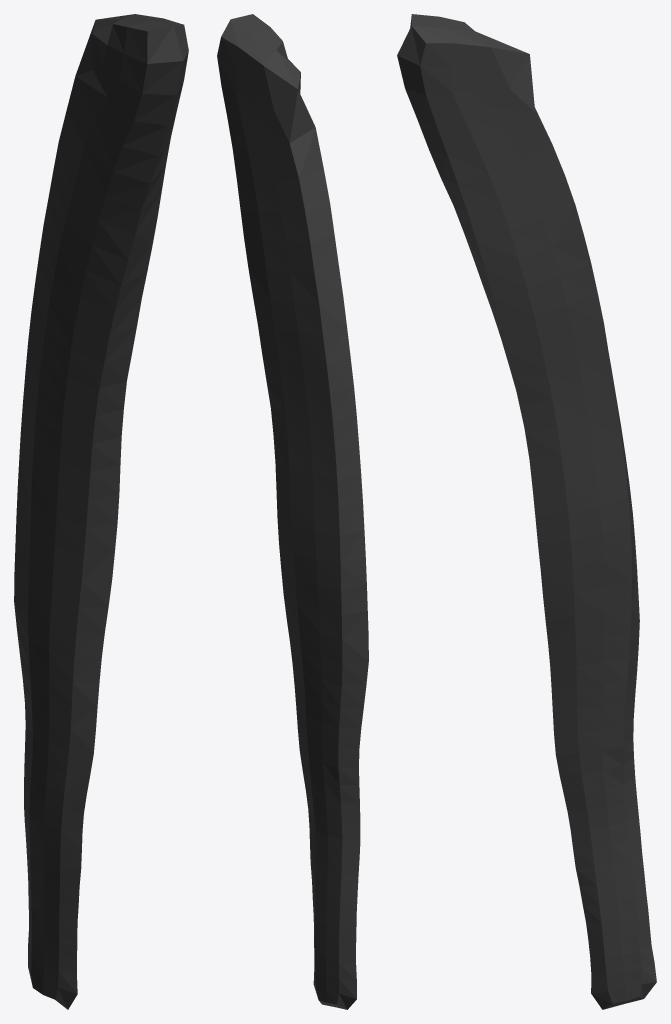
Rendered from Lacertus_fibrosus.glb.
3 views of the same model, side by side, from view 1: azimuth 30°, elevation 25°; view 2: azimuth 210°, elevation 25°; view 3: azimuth 270°, elevation 25° (orthographic). The views are drawn at different scales.
Parts seen in each view (by area): view 1: Lacertus_fibrosus; view 2: Lacertus_fibrosus; view 3: Lacertus_fibrosus.
Boxes of the visible parts, box(x1,y1,x2,y2) form: Lacertus_fibrosus: box(14, 14, 188, 1009); Lacertus_fibrosus: box(217, 14, 368, 1009); Lacertus_fibrosus: box(397, 14, 656, 1009).
Bounding box in the file's own units: 3.33 × 54.2 × 12.95.
Materials: 1 (1 with a texture image).
